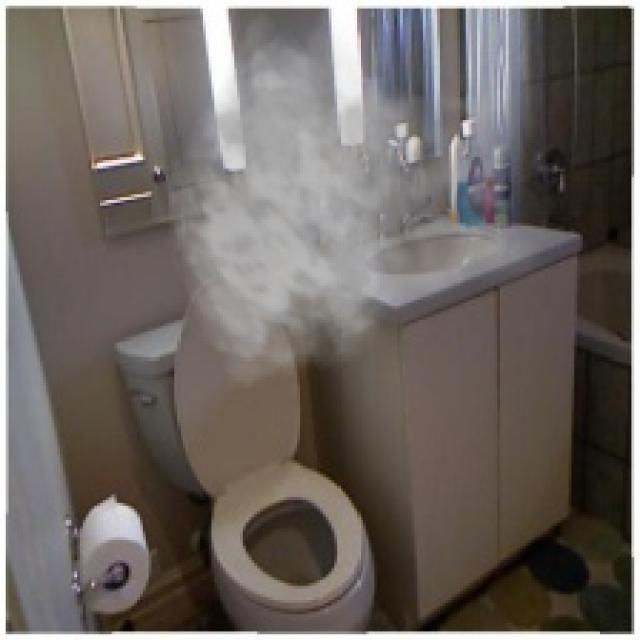smoke: (166, 6, 548, 388)
